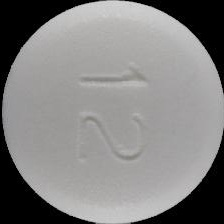49999-106: (0, 0, 224, 224)
